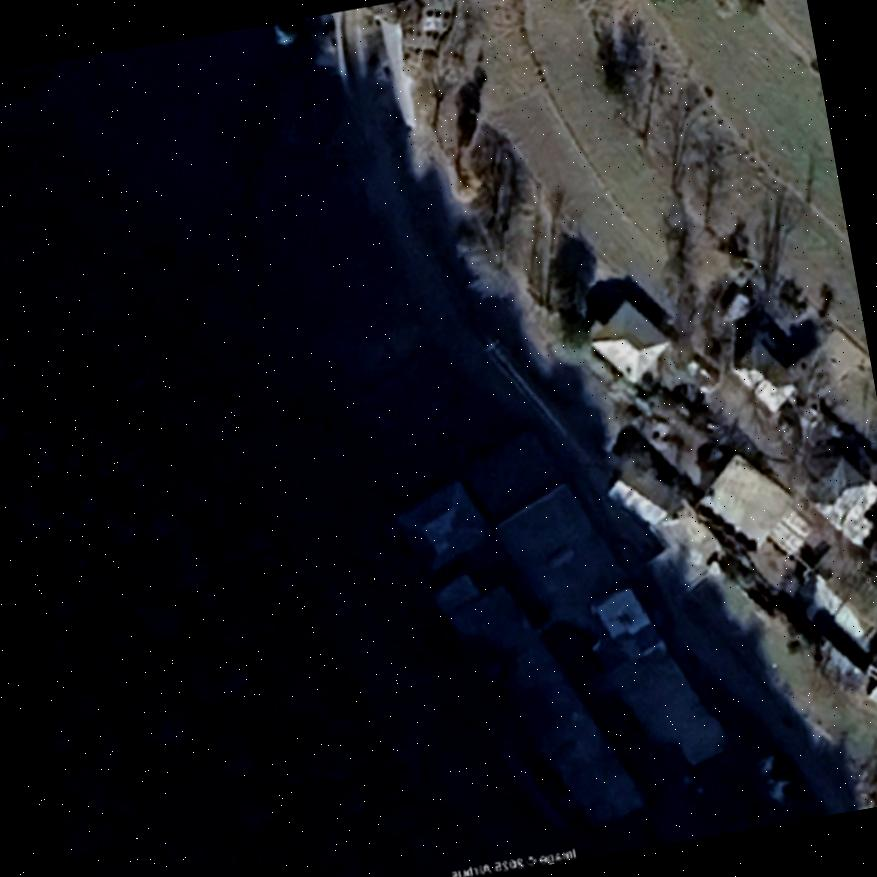Solarpanel: (588, 582, 654, 646)
